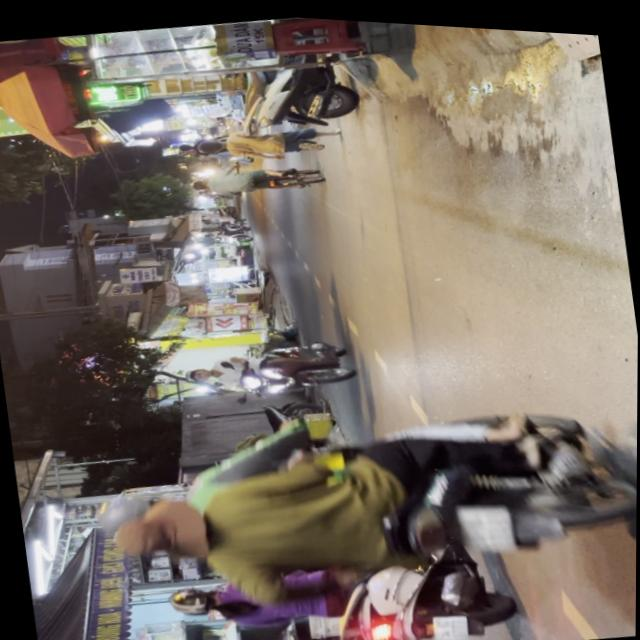helmet: (94, 487, 184, 538), (165, 582, 220, 621), (183, 364, 215, 384)
licenseplate: (87, 362, 638, 628), (159, 529, 525, 640), (179, 326, 359, 408)
motorcyclist: (108, 491, 213, 571)
nohelmet: (457, 496, 514, 553), (431, 608, 468, 639)
